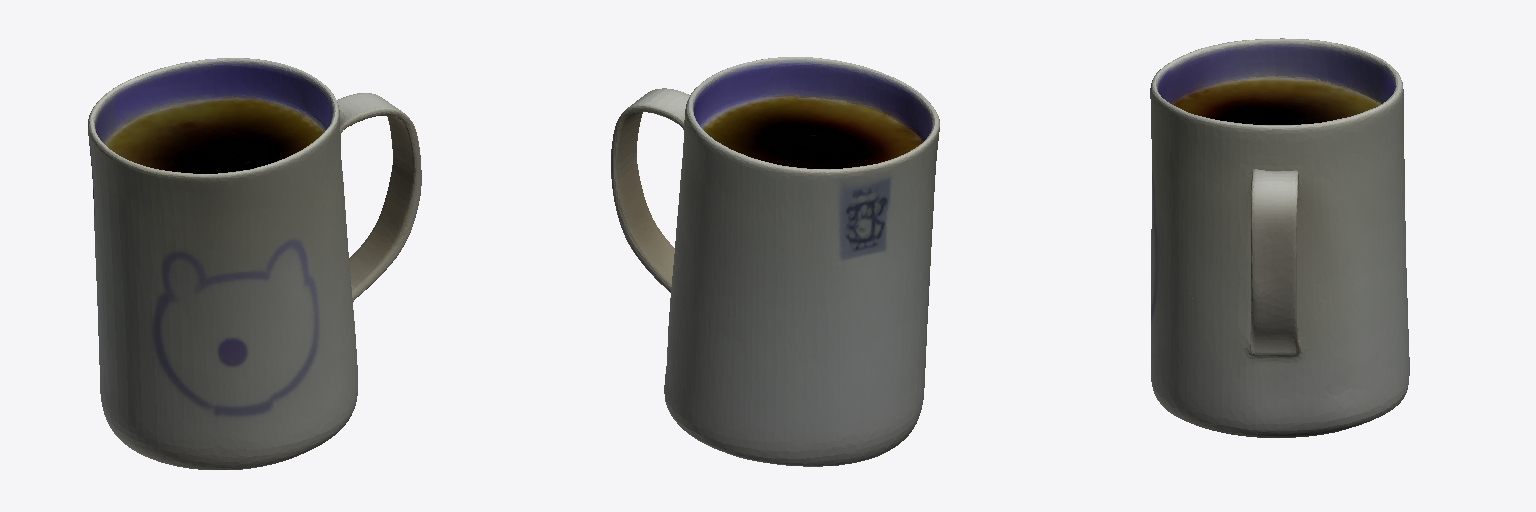
3 views of the same model, side by side, from view 1: azimuth 30°, elevation 25°; view 2: azimuth 150°, elevation 25°; view 3: azimuth 270°, elevation 25° (orthographic).
Parts seen in each view (by area): view 1: geometry_0; view 2: geometry_0; view 3: geometry_0.
Part boxes in pixels (x1,y1,x2,y2): geometry_0: (88, 58, 421, 469); geometry_0: (611, 57, 939, 466); geometry_0: (1150, 38, 1409, 437).
Bounding box in the file's own units: 110 × 111 × 81.26.
Materials: 1 (1 with a texture image).